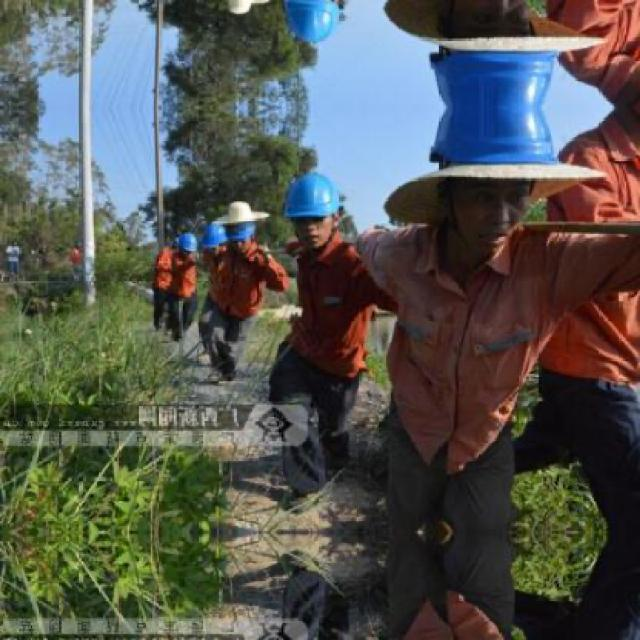helmet: (409, 108, 585, 257), (408, 0, 584, 106), (278, 165, 349, 246), (277, 0, 349, 49), (225, 197, 257, 235), (200, 218, 225, 260), (178, 226, 198, 257), (224, 0, 258, 17)
